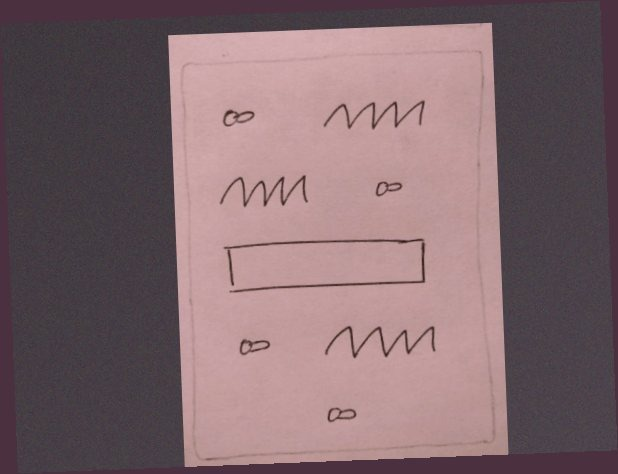switch: (228, 327, 285, 362), (215, 100, 263, 134), (364, 172, 410, 204), (321, 399, 364, 428)
text: (319, 316, 442, 363), (315, 90, 429, 138), (214, 168, 316, 214)
text_input: (213, 230, 441, 304)
